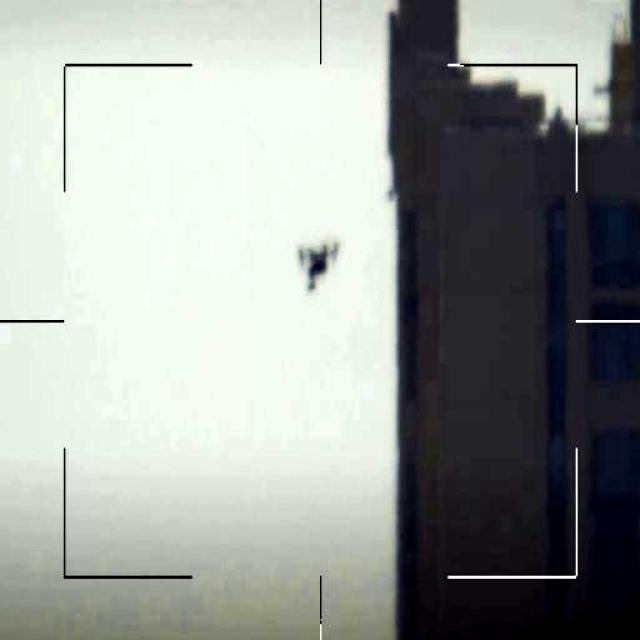bird: (282, 230, 361, 301)
